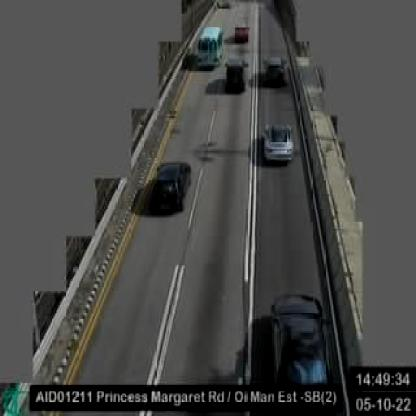Car: (270, 296, 333, 388), (151, 160, 190, 213), (262, 121, 292, 163), (262, 56, 288, 86), (225, 59, 246, 94), (233, 23, 248, 45)
Minibus: (195, 24, 221, 70)
